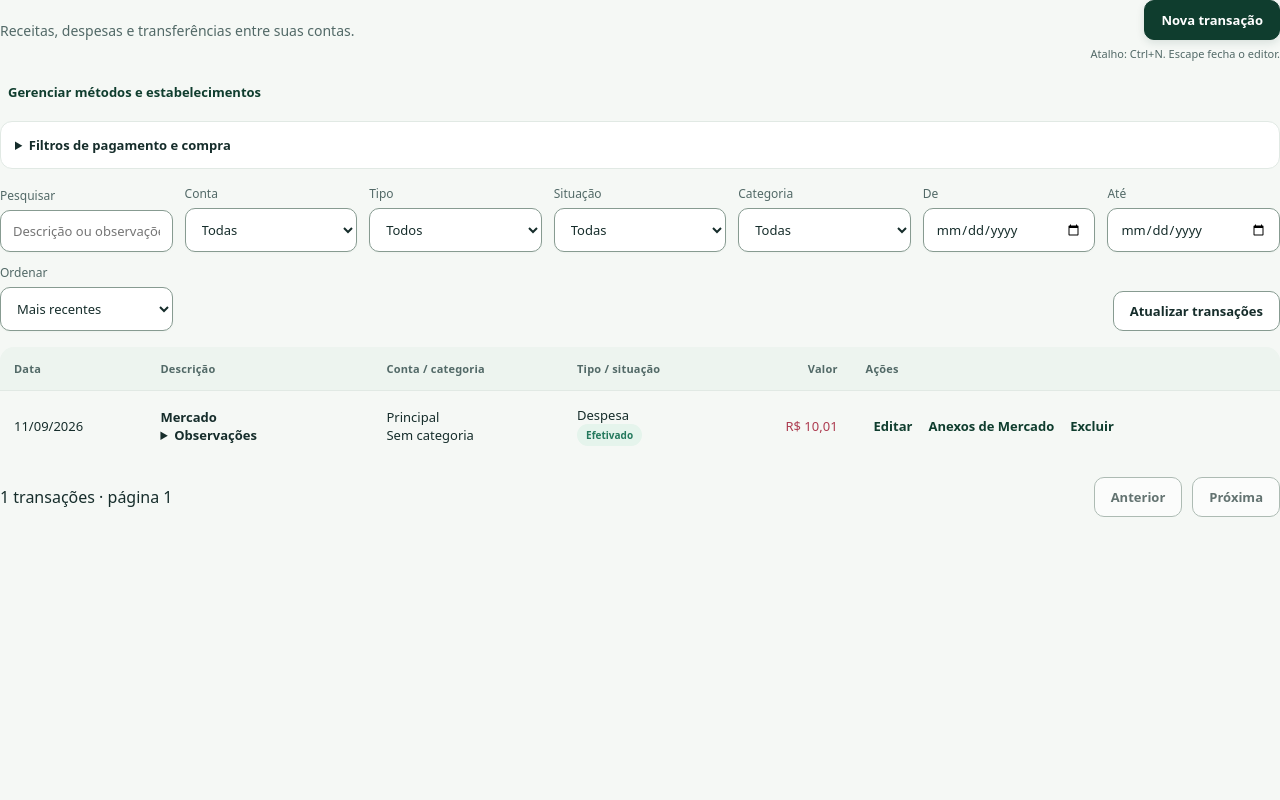
Test case: keeps a committed save closed when refreshing fails and retries only reading
Check: the column heading "Mercado" is shown, box [160,408,217,426]
Step 1. Click the button with aria-label "Editar Mercado" → (893,426), box [866,411,920,441]
(page scrolled)
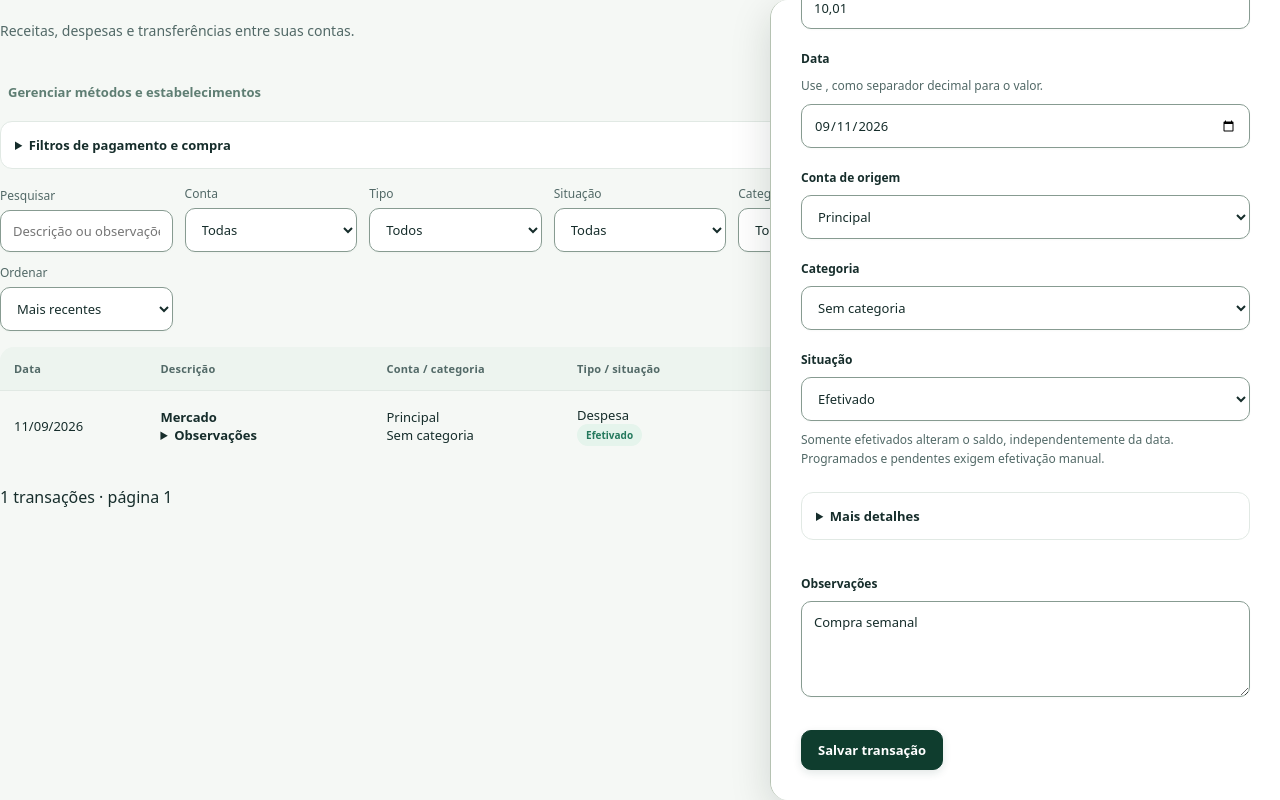
Step 2. Click the button "Salvar transação" → (872,750), box [801,730,943,770]
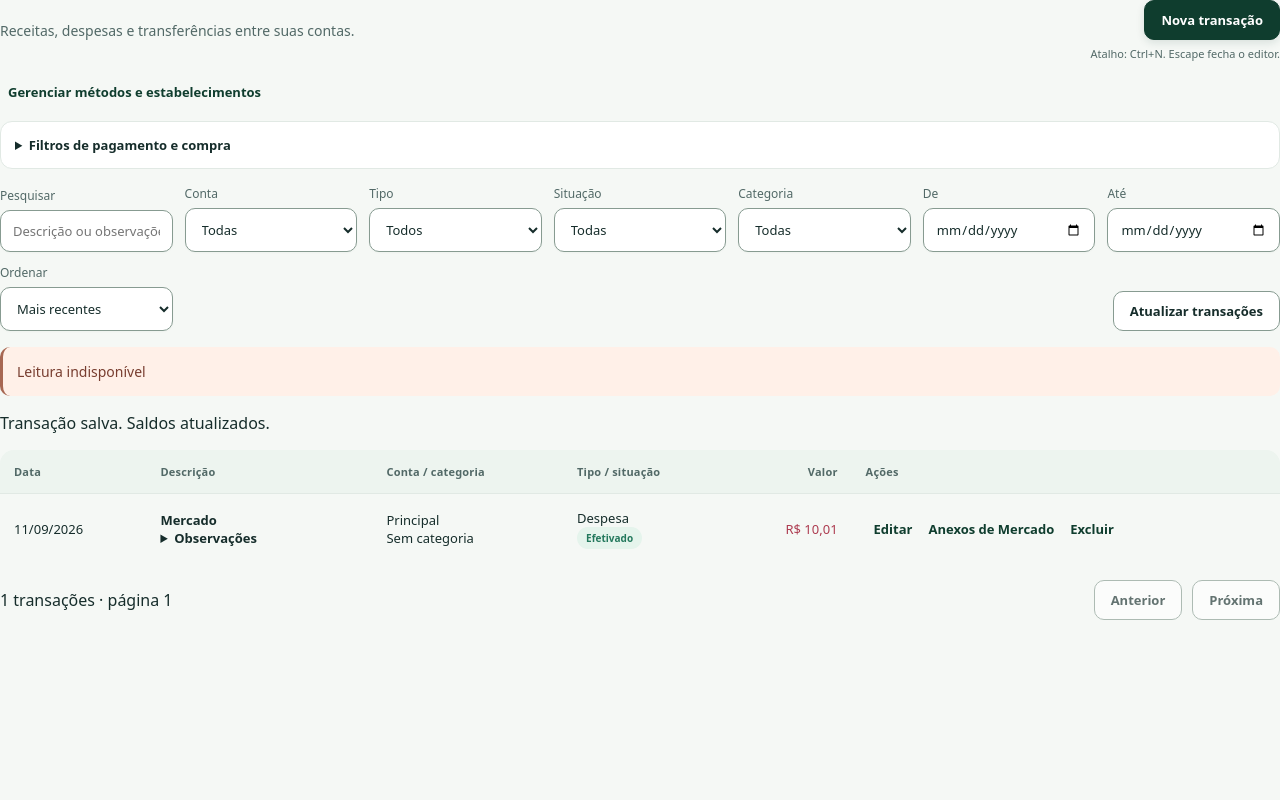
Check: the text "Leitura indisponível" is shown, box [0,347,1279,396]
Check: the dialog is gone
Step 3. Click the button "Atualizar transações" → (1196,311), box [1113,291,1279,331]
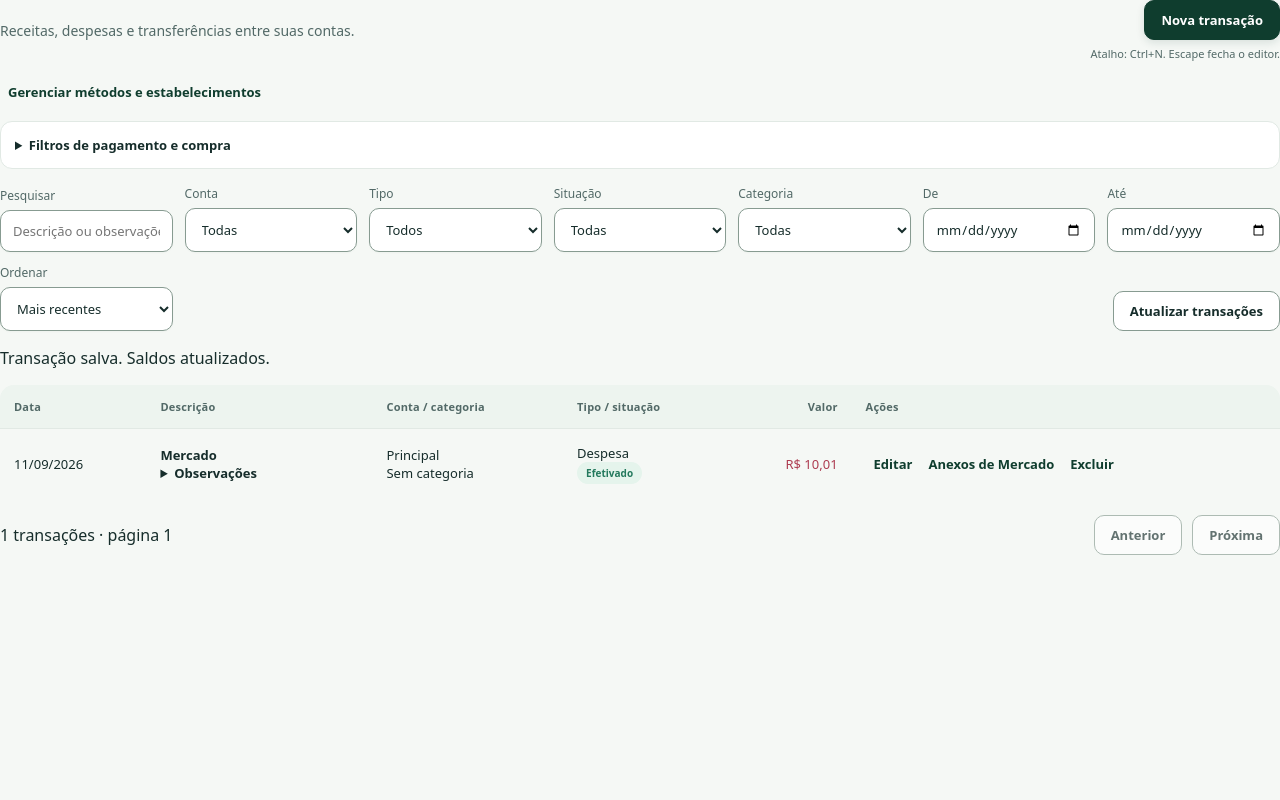
Check: the text "Leitura indisponível" is gone
